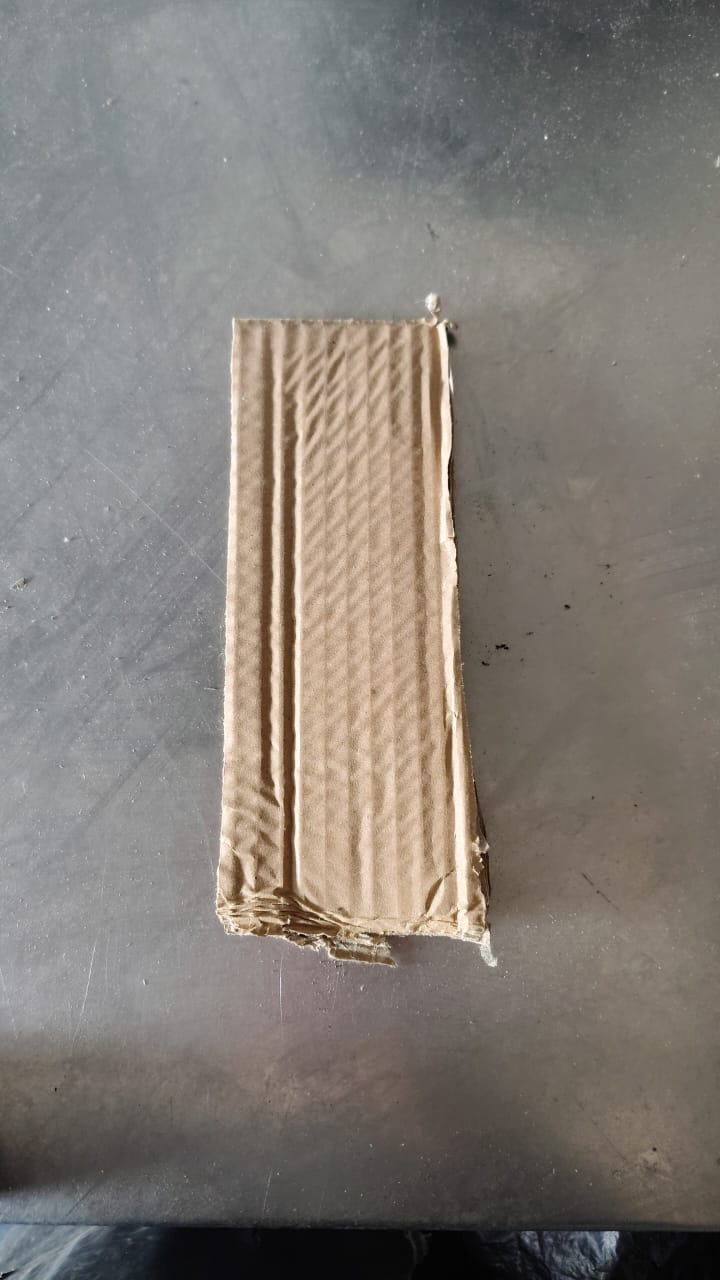Carton: (220, 318, 496, 969)
